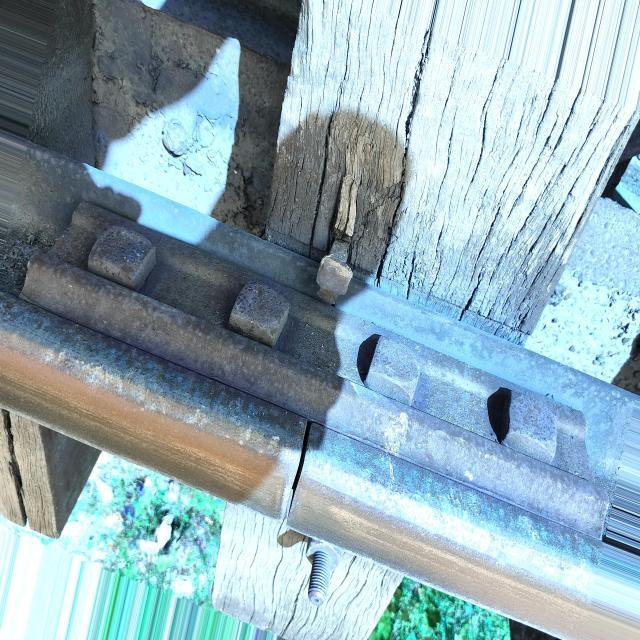Good Fasteners: (316, 255, 352, 305)
Good Joint: (21, 202, 607, 538)
